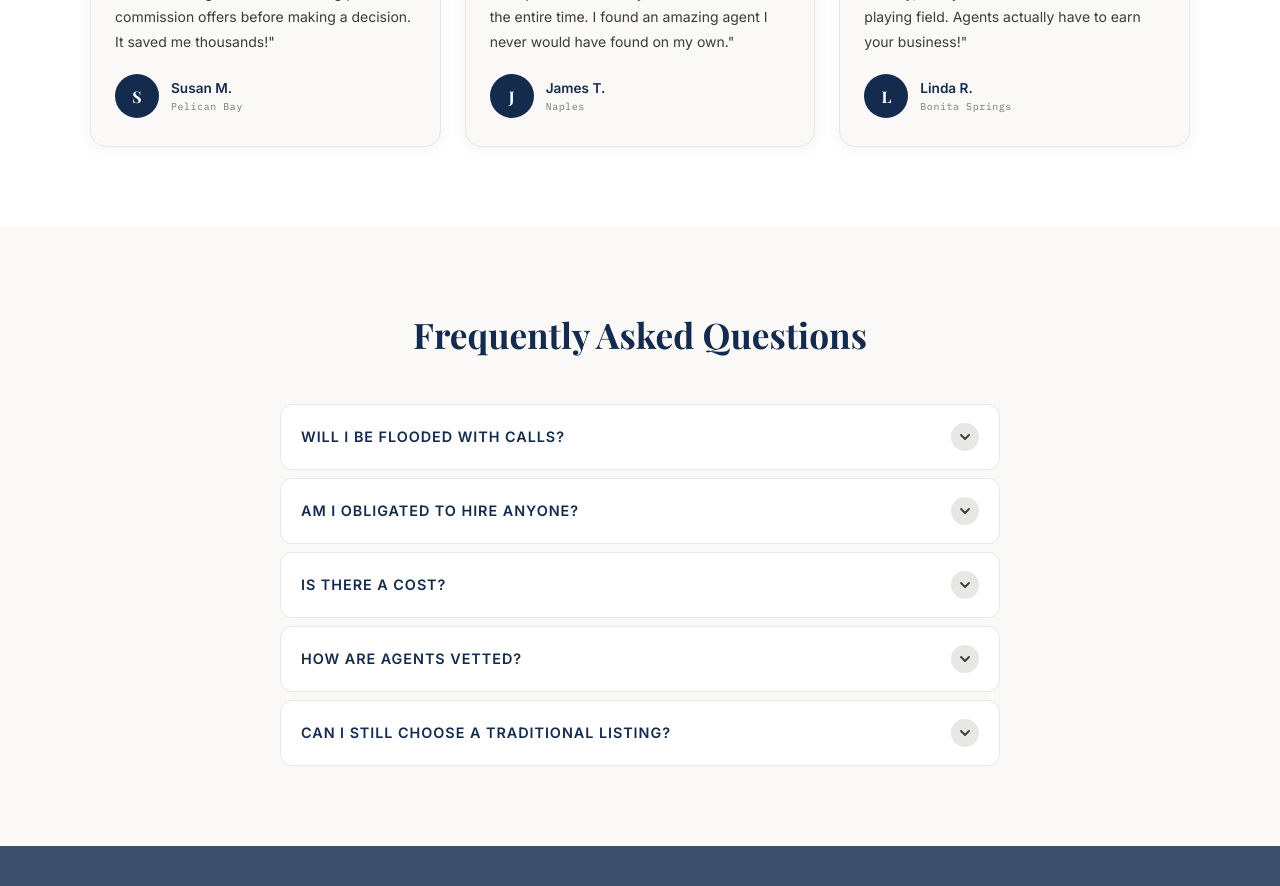
HomePage › toggles FAQ accordion open and closed
The width and height of the screenshot is (1280, 886).
(page scrolled)
Click the button "Will I be flooded with calls?" at (433, 437), box [281, 405, 999, 469]
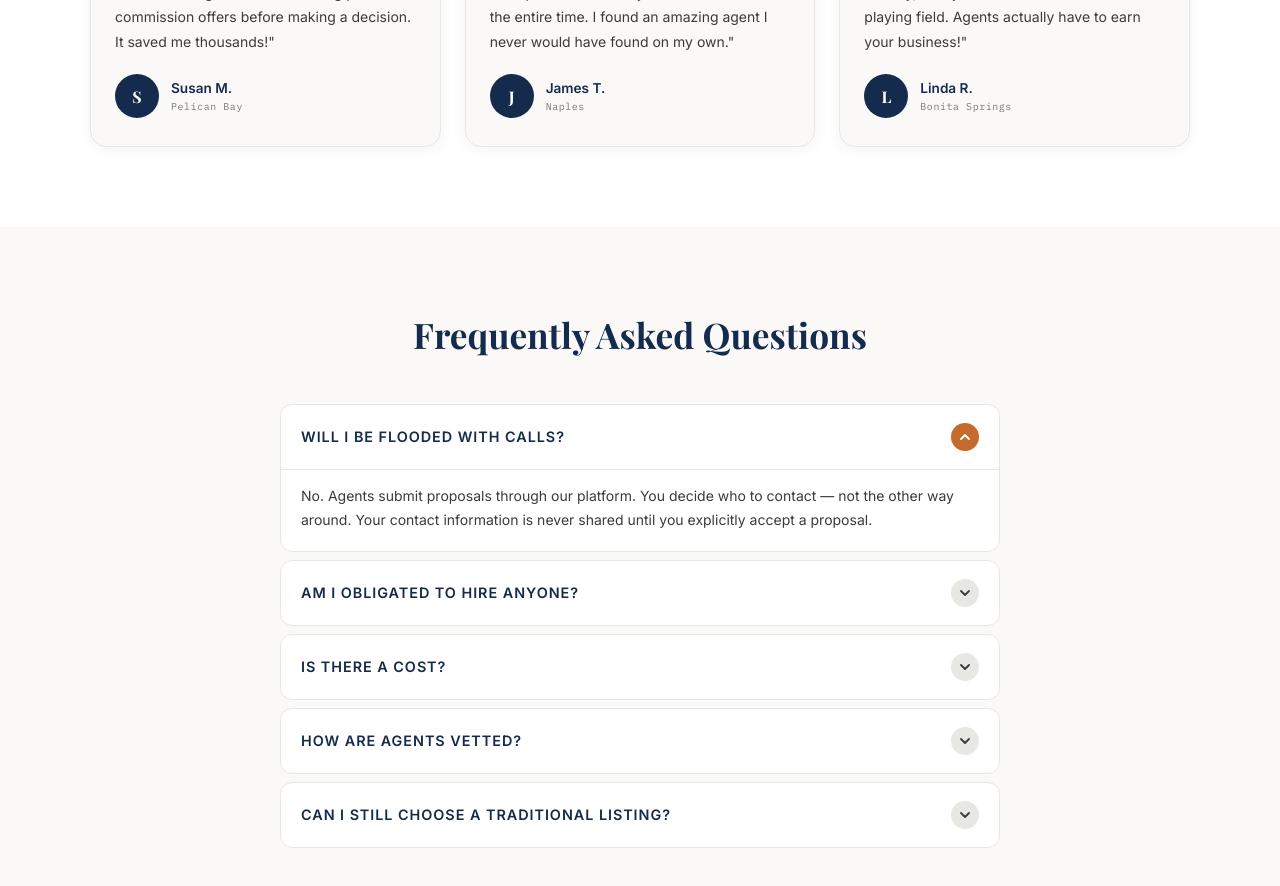
Result: the text "Agents submit proposals through our platform" is shown at [301, 487, 954, 528]
Click the button "Will I be flooded with calls?" at (433, 437), box [281, 405, 999, 469]
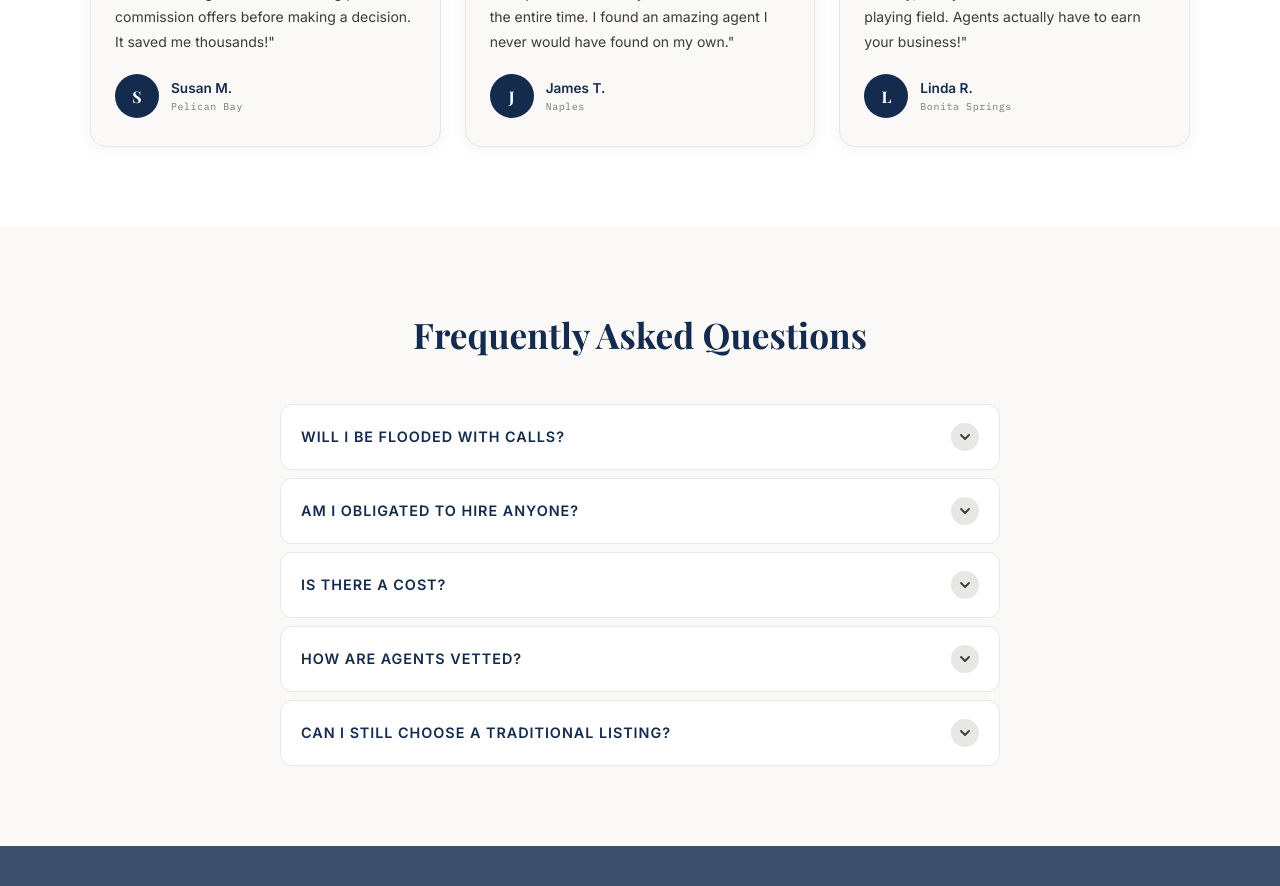
Result: the text "Agents submit proposals through our platform" is gone
